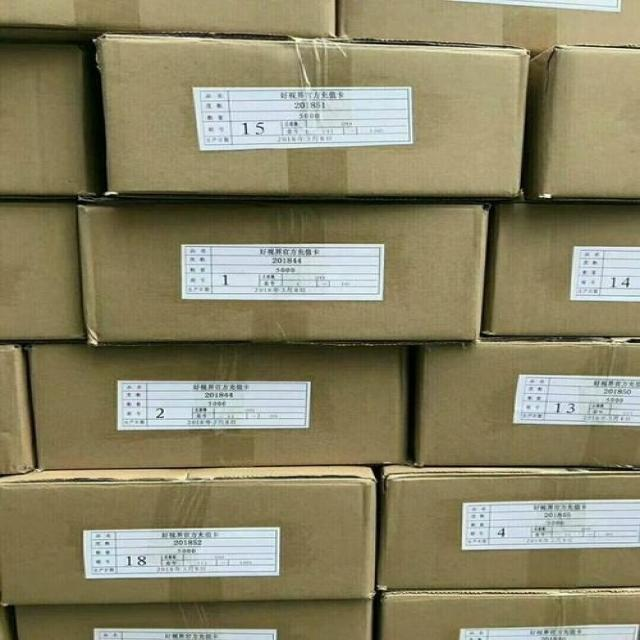box: (95, 36, 532, 200), (78, 191, 495, 346), (0, 468, 378, 606), (27, 342, 422, 471), (376, 455, 640, 593), (419, 335, 640, 470), (483, 200, 640, 337), (525, 46, 640, 200), (337, 0, 640, 55), (12, 598, 372, 640), (0, 0, 339, 43), (1, 40, 91, 199), (381, 585, 640, 639), (0, 198, 87, 342), (1, 343, 33, 476)
